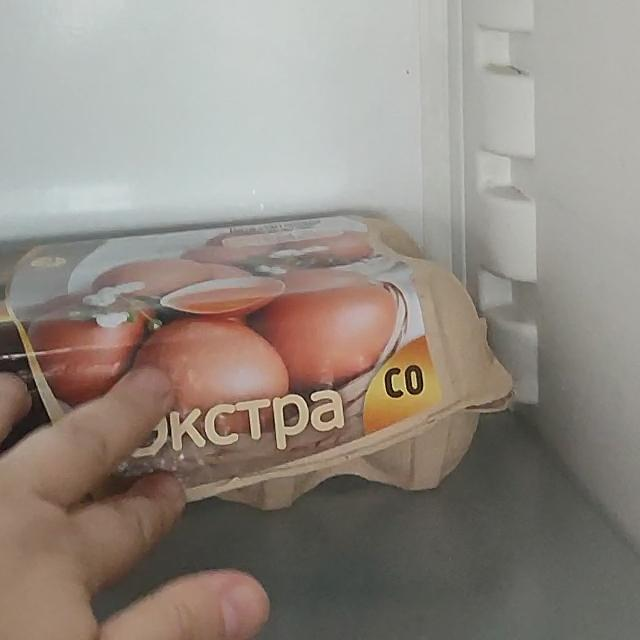egg: (0, 183, 536, 519)
